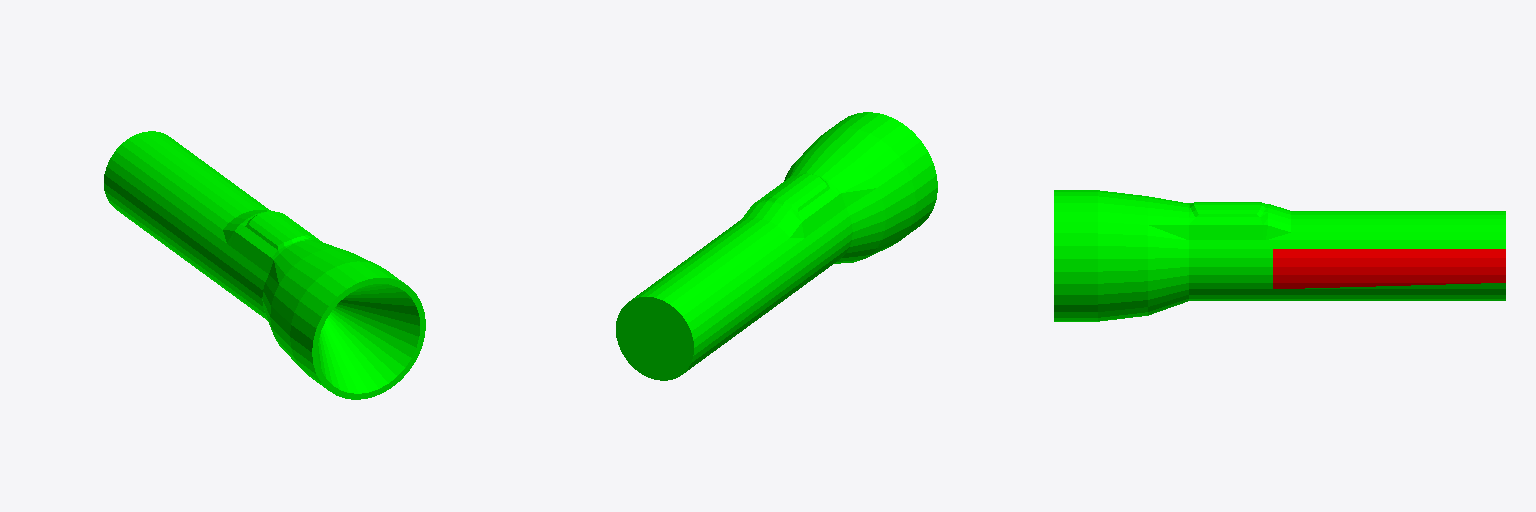
File: Flashlight2.obj
The picture shows the model from 3 angles: view 1: azimuth 30°, elevation 25°; view 2: azimuth 150°, elevation 25°; view 3: azimuth 270°, elevation 25°; orthographic projection.
Visible parts, largest first — view 1: Flashlight1; view 2: Flashlight1; view 3: Flashlight1.
Boxes of the visible parts, x1=… form: Flashlight1: x1=104, y1=131, x2=425, y2=399; Flashlight1: x1=616, y1=112, x2=937, y2=380; Flashlight1: x1=1054, y1=190, x2=1505, y2=321.
Size of the model in its own units: 2.9 by 2.9 by 9.98.